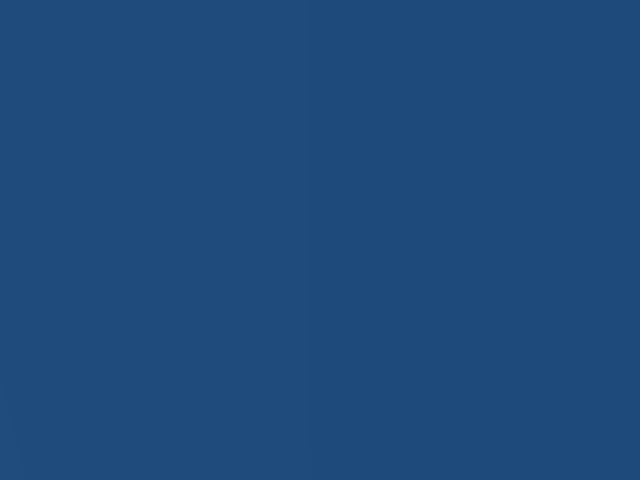goal_zone: (402, 194, 515, 223)
obstacle: (575, 225, 638, 410)
